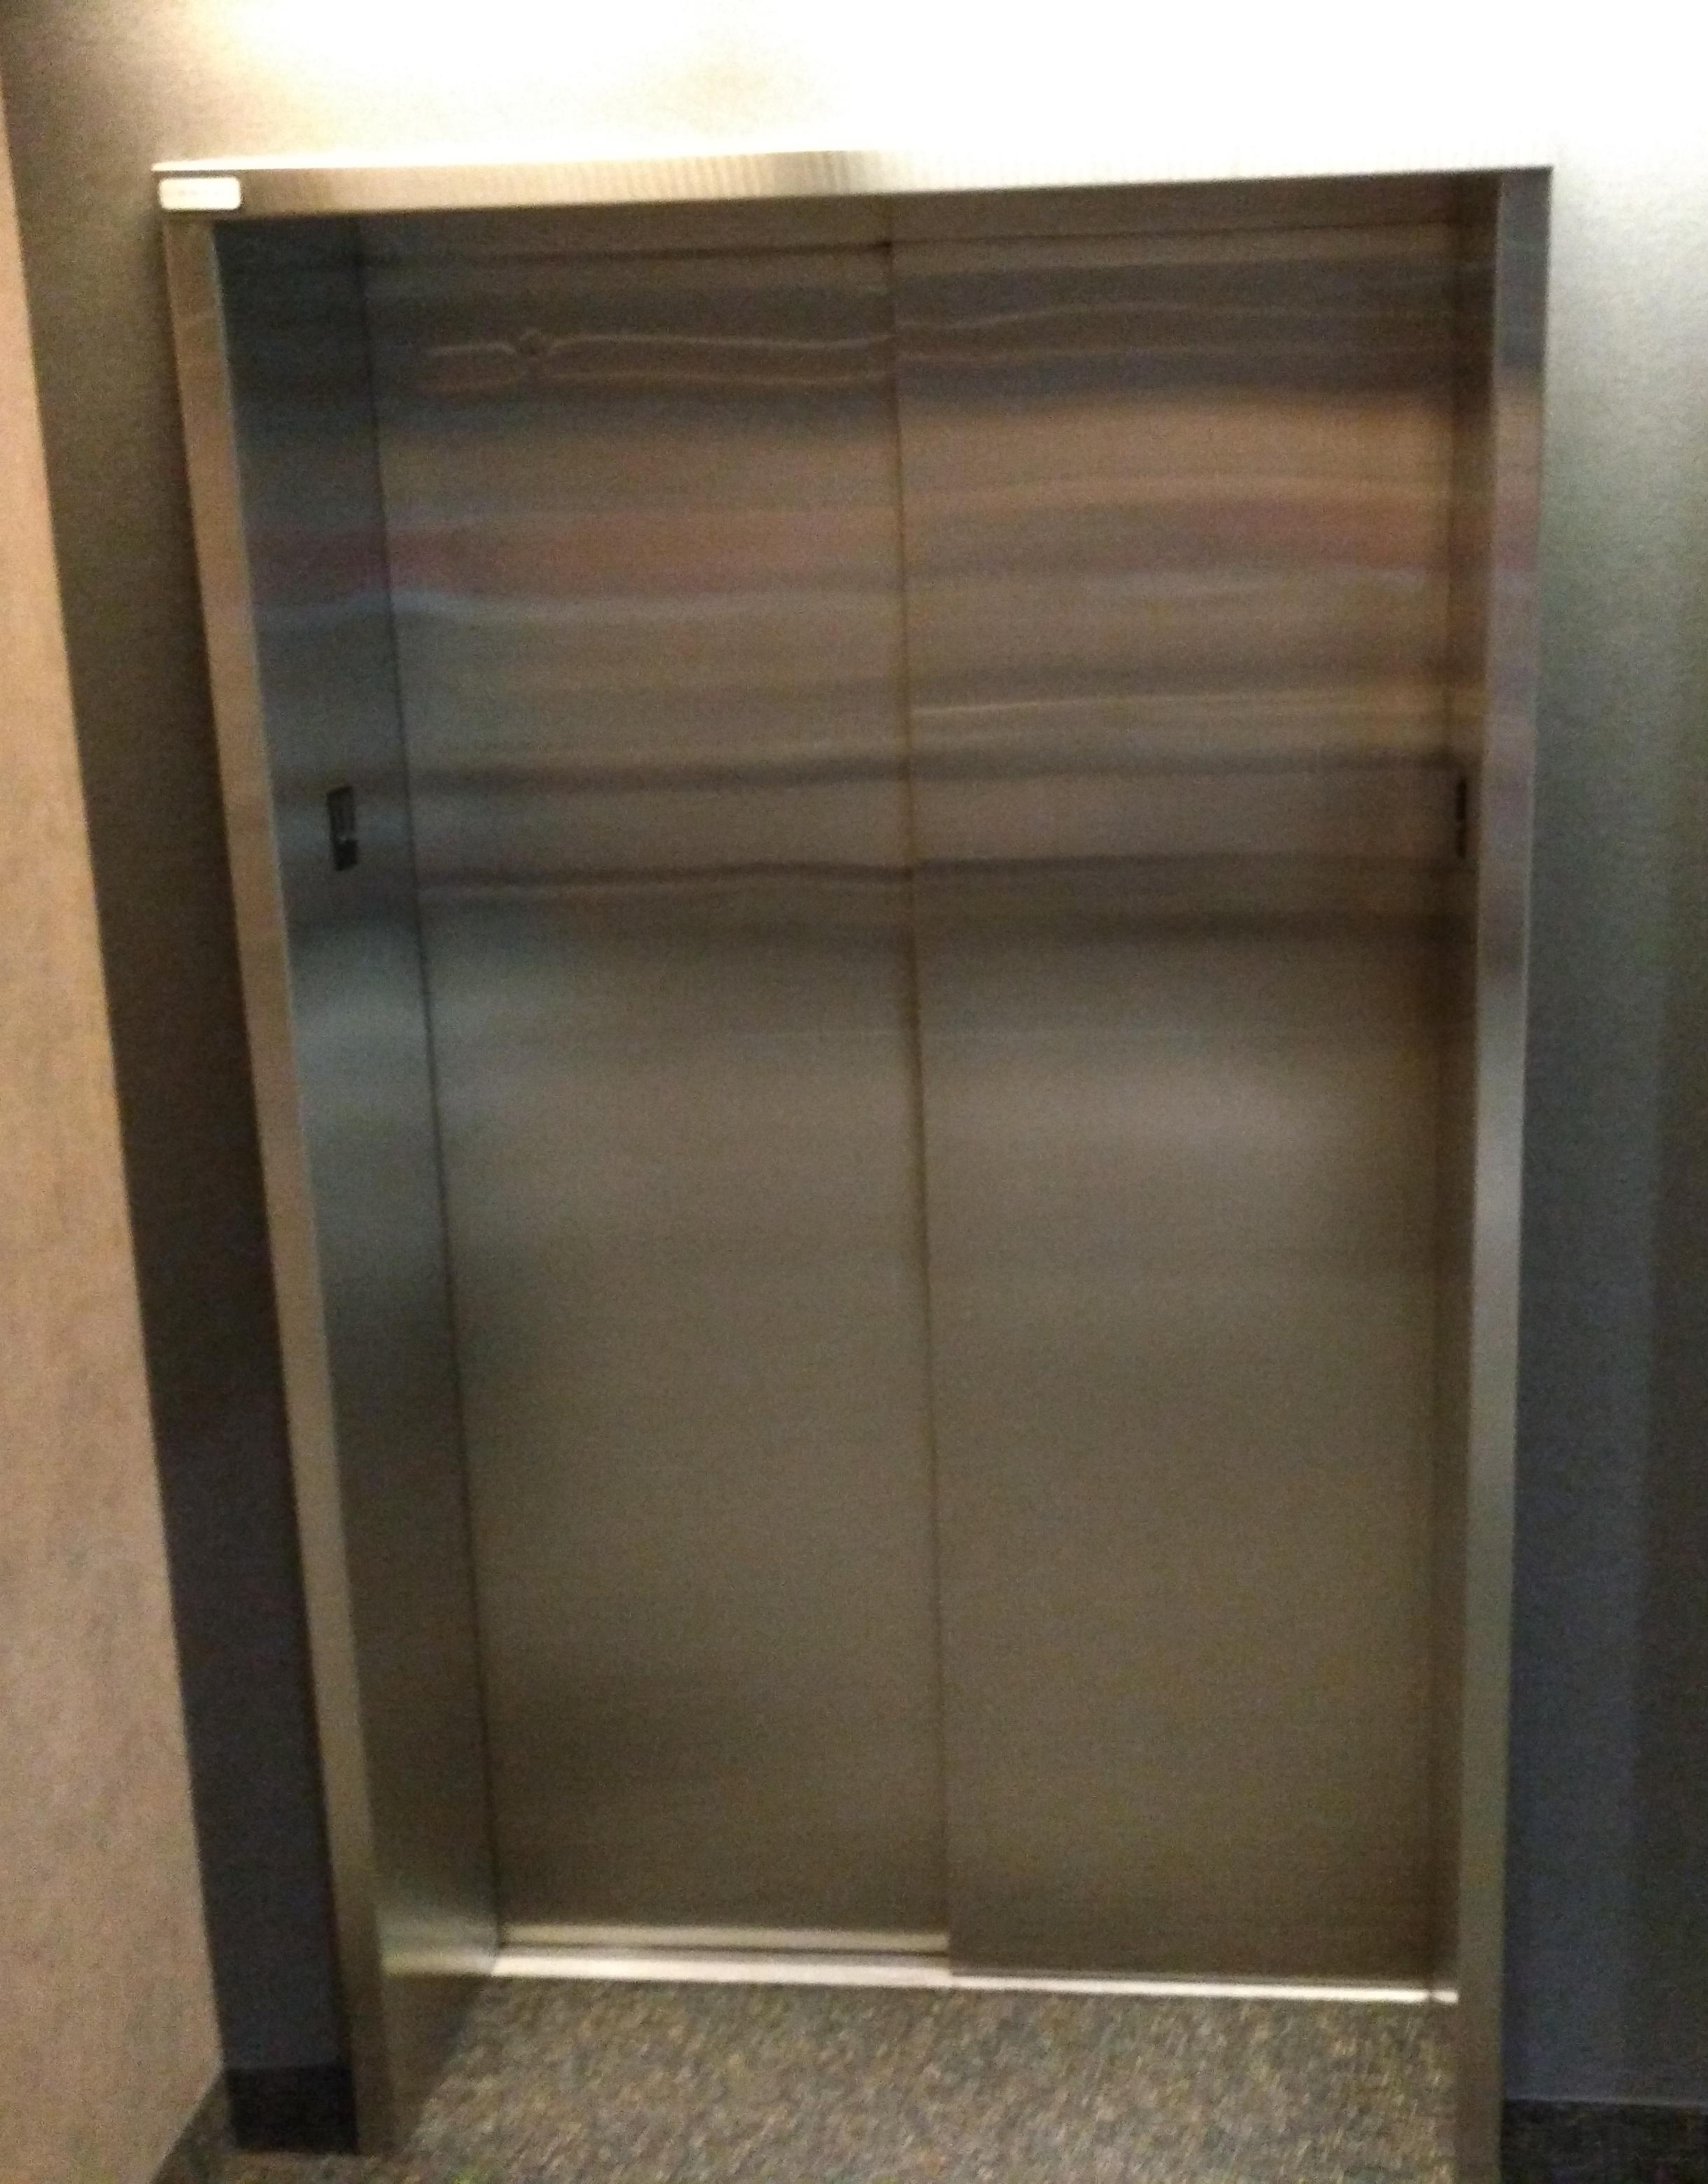door: (160, 163, 1554, 2175)
